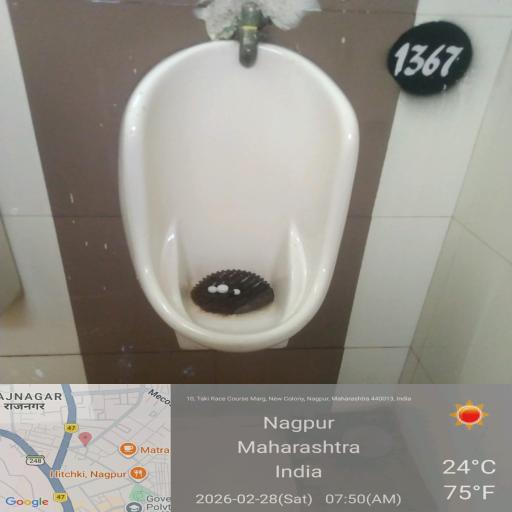clean_floor: (25, 338, 512, 512)
clean_urinal: (80, 48, 379, 364)
